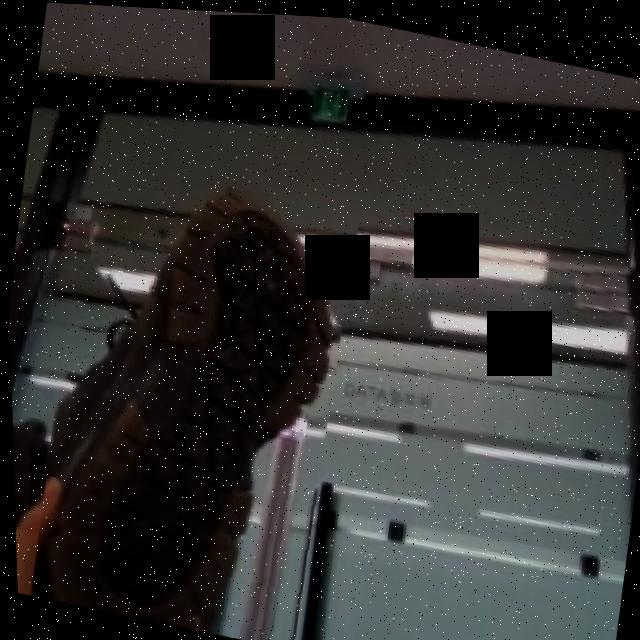shoe: (17, 153, 369, 640)
